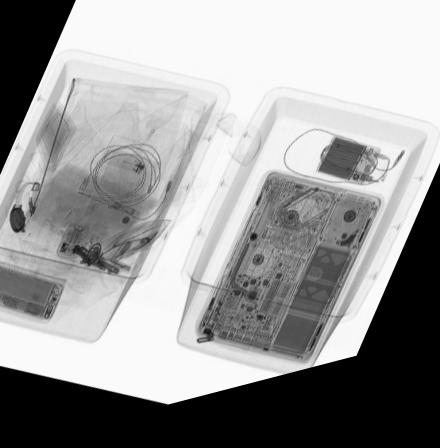Lighter: (102, 152, 148, 182)
